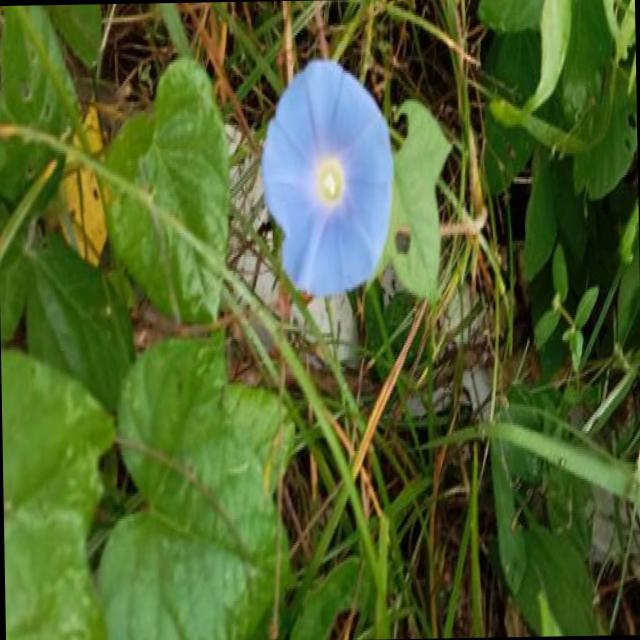ipomoea: (255, 53, 398, 304)
